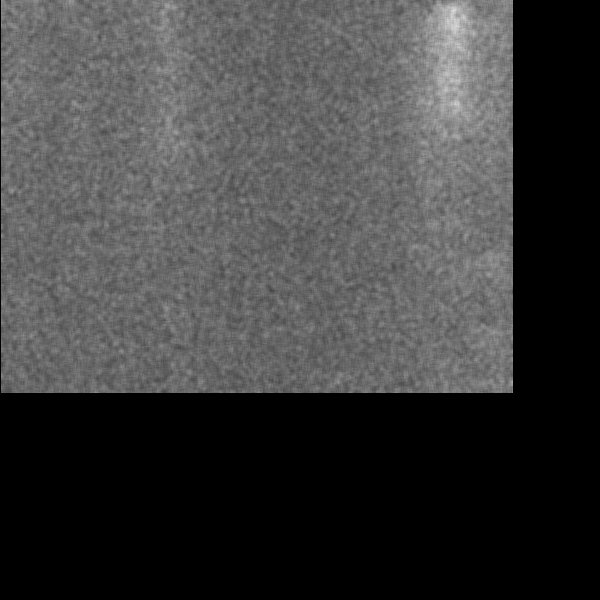spark: (428, 1, 473, 200)
